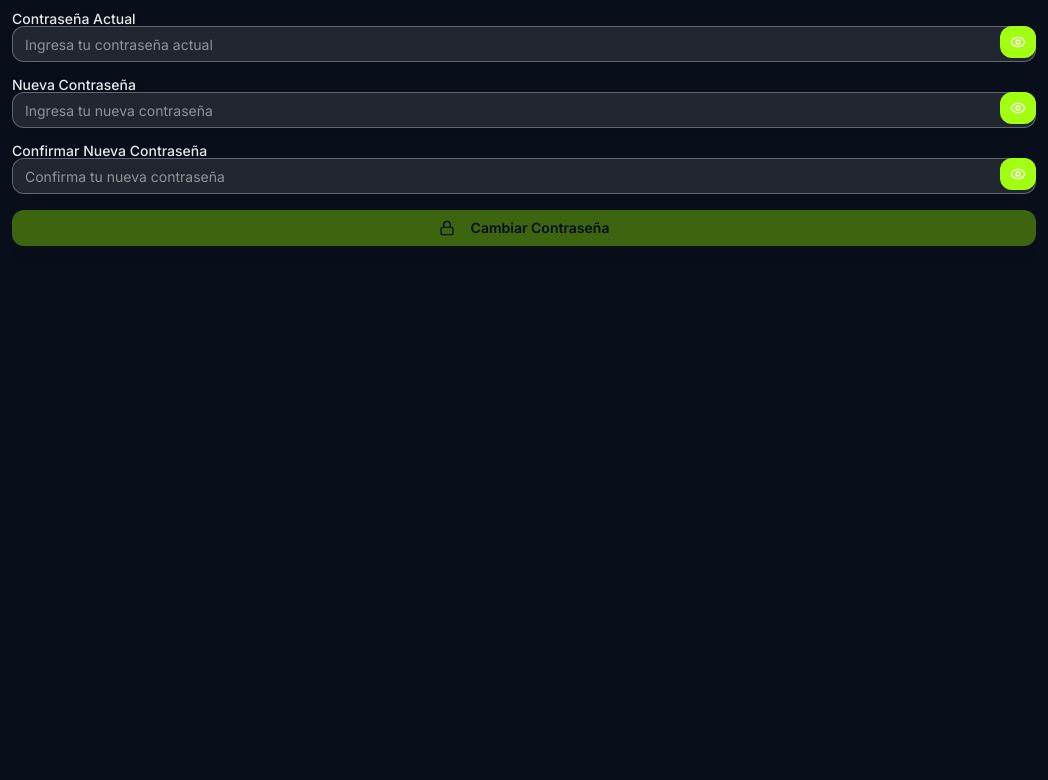
Test: Change password (Configuración) › changes the password with POST /auth/password/change and signs out
The image size is (1048, 780).
Type "Vieja#Clave2025" into the password field labelled "Contraseña Actual" at (524, 44), box 12,26 -> 1036,62
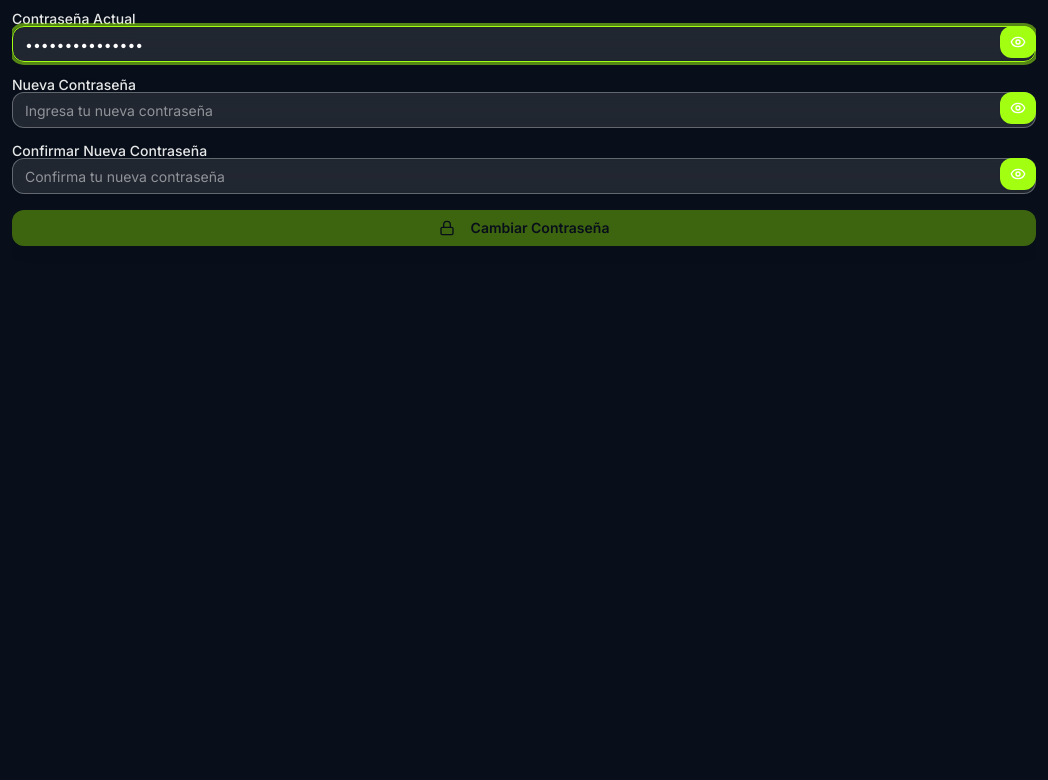
Type "Nueva#Clave2026" into the password field labelled "Nueva Contraseña" at (524, 110), box 12,92 -> 1036,128
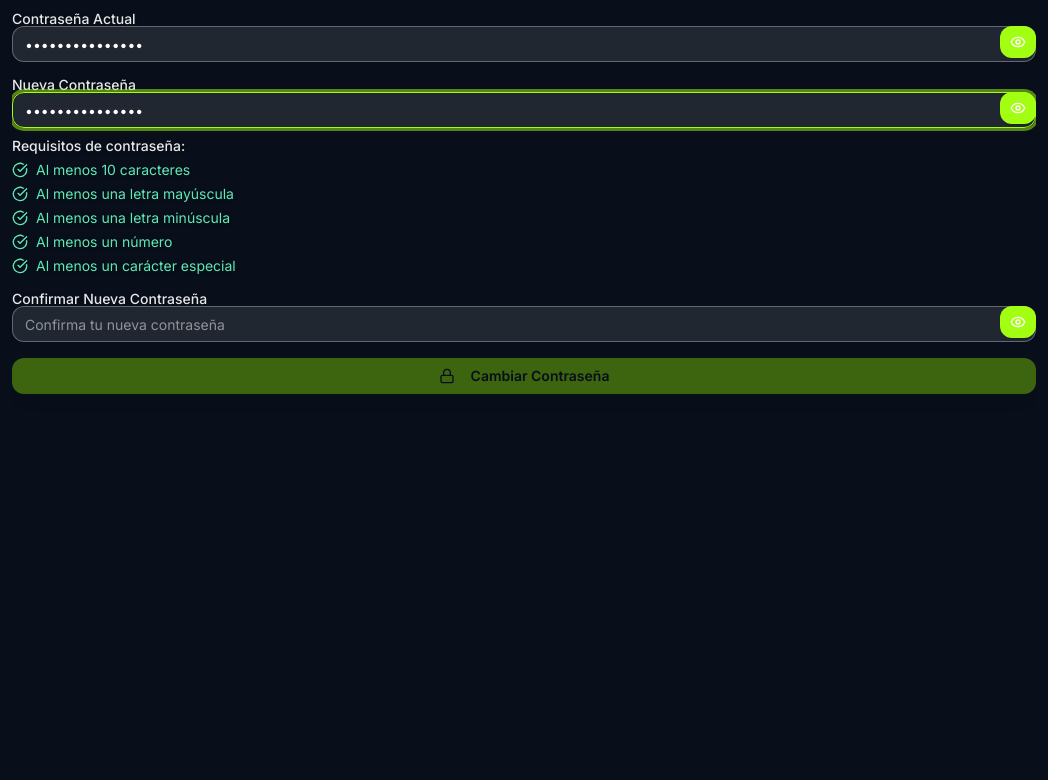
Type "Nueva#Clave2026" into the password field labelled "Confirmar Nueva Contraseña" at (524, 324), box 12,306 -> 1036,342
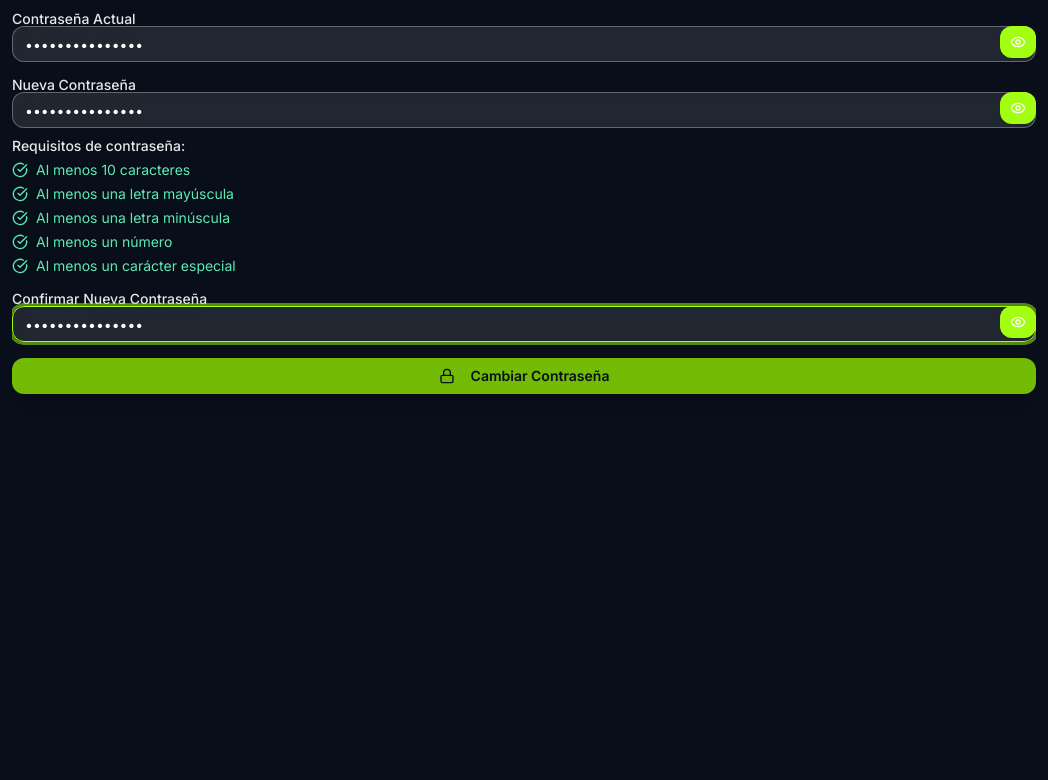
Click the button "Cambiar Contraseña" at (524, 376), box 12,358 -> 1036,394
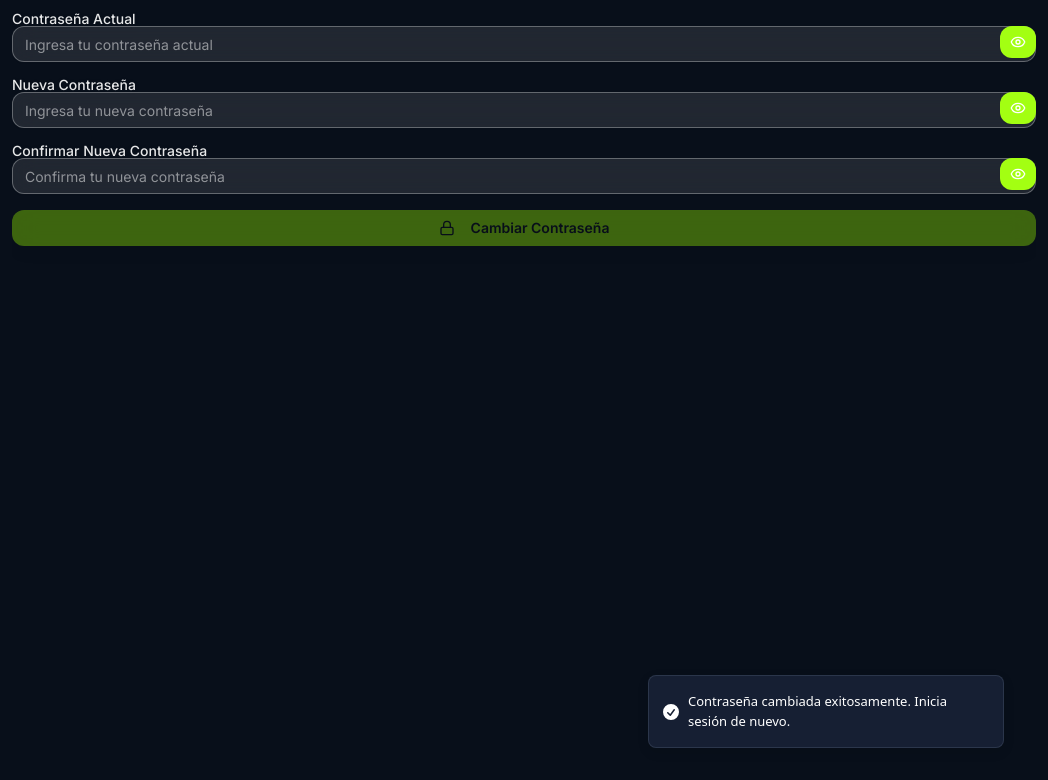
Expected: the text "Contraseña cambiada exitosamente. Inicia sesión de nuevo." is shown, 688,692 -> 987,731
